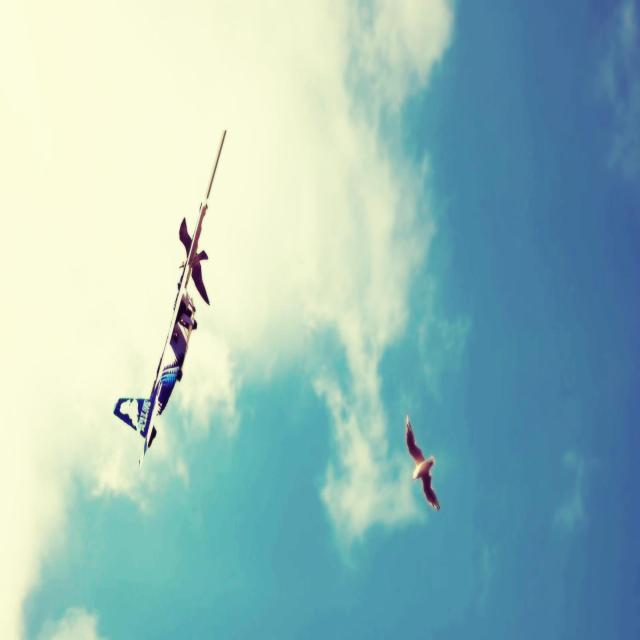airplane: (112, 128, 226, 467)
